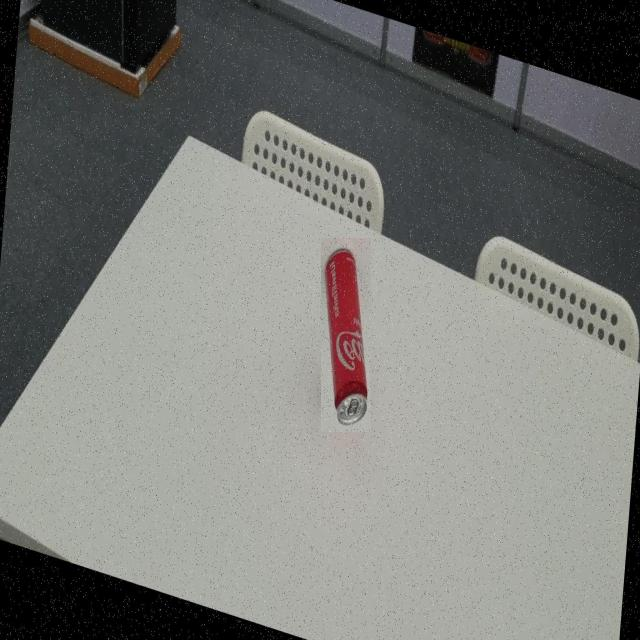coca-cola: (321, 238, 371, 432)
